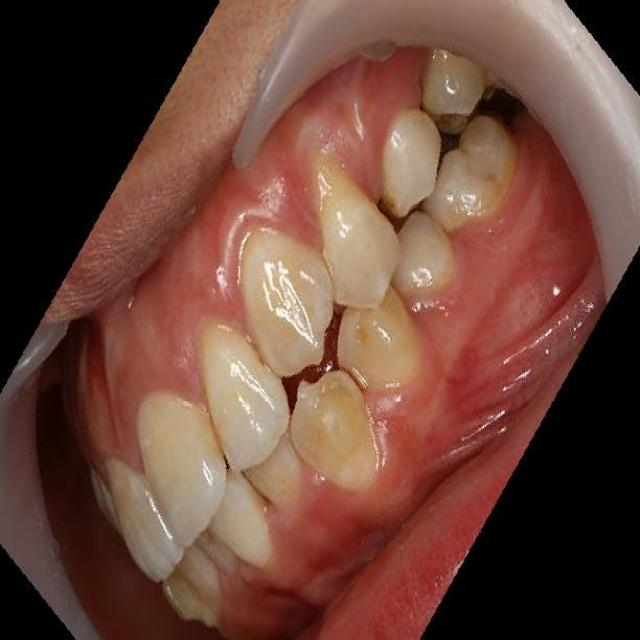swelling: (198, 254, 260, 346)
